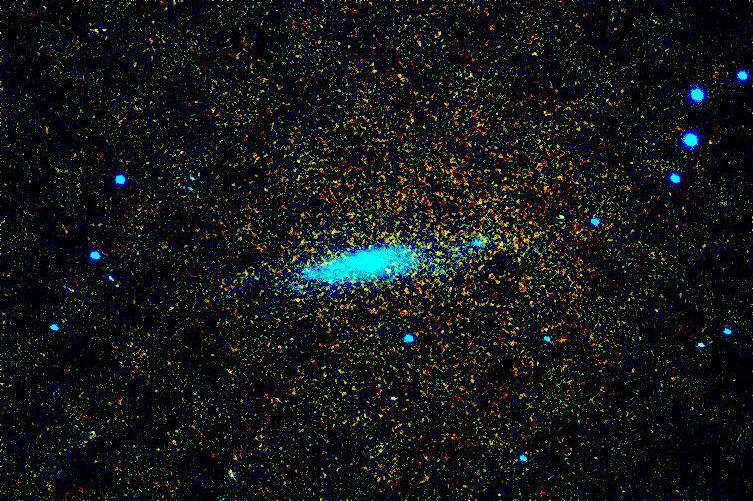star: (370, 255, 400, 285)
